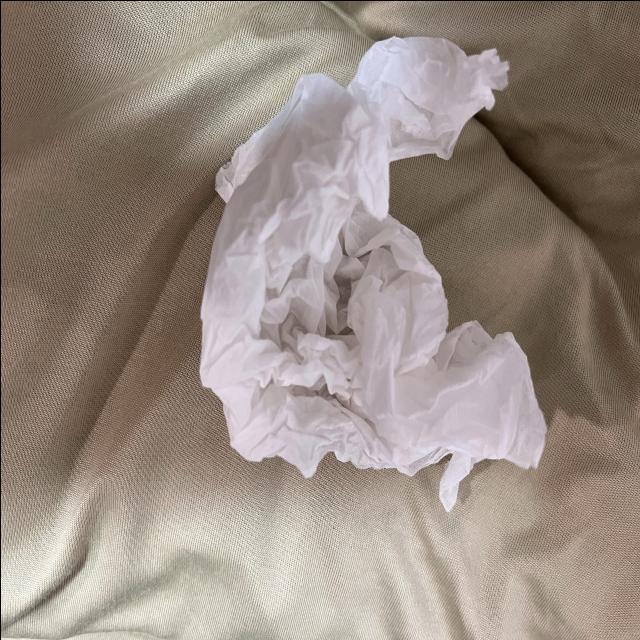Paper: (186, 34, 565, 499)
